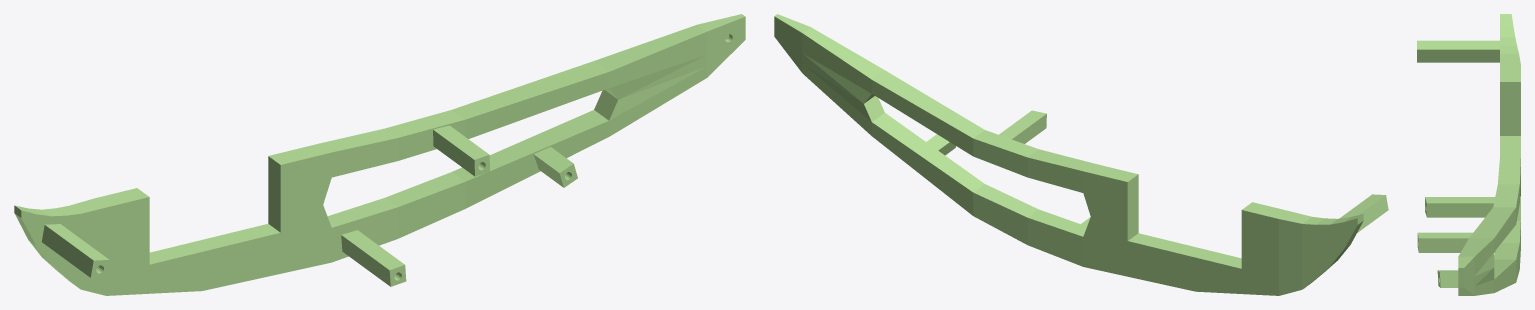
The model's file is Piece 7.obj.
The picture shows the model from 3 angles, left to right: view 1: azimuth 30°, elevation 25°; view 2: azimuth 150°, elevation 25°; view 3: azimuth 270°, elevation 25°; orthographic projection. The views are drawn at different scales.
Parts seen in each view (by area): view 1: Object.1; view 2: Object.1; view 3: Object.1.
Part boxes in pixels (bbox=[...]): Object.1: bbox=[14, 14, 745, 295]; Object.1: bbox=[774, 14, 1388, 295]; Object.1: bbox=[1417, 14, 1520, 295].
Size of the model in its own units: 216 by 49.93 by 32.82.
